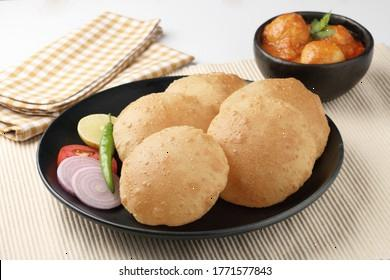puri: (121, 77, 326, 236)
